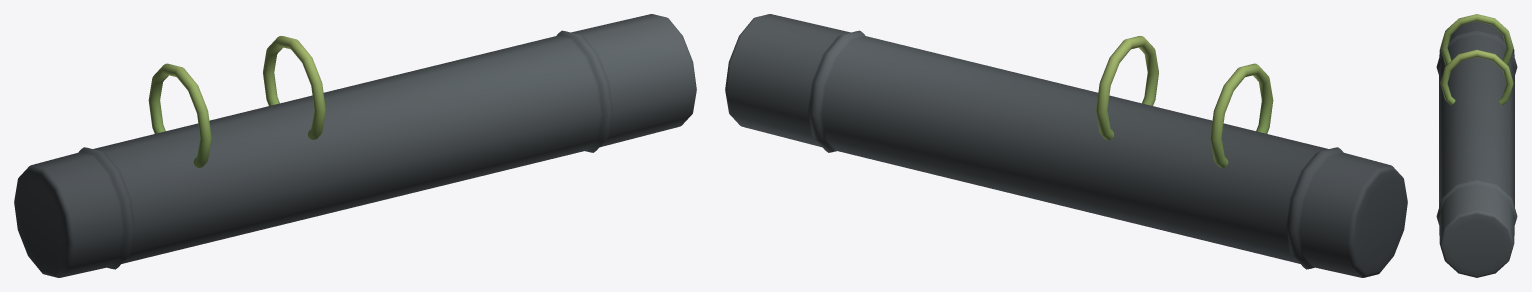
The model's file is Rammer.fbx.
3 renders of one model, left to right at view 1: azimuth 30°, elevation 25°; view 2: azimuth 150°, elevation 25°; view 3: azimuth 270°, elevation 25°, orthographic. The views are drawn at different scales.
Visible parts, largest first — view 1: Rammer; view 2: Rammer; view 3: Rammer.
Boxes of the visible parts, left/top/right/bottom form: Rammer: left=14, top=14, right=696, bottom=277; Rammer: left=725, top=14, right=1407, bottom=277; Rammer: left=1436, top=14, right=1517, bottom=277.
Size of the model in its own units: 152 by 41.4 by 26.53.
Materials: 1 (1 with a texture image).
